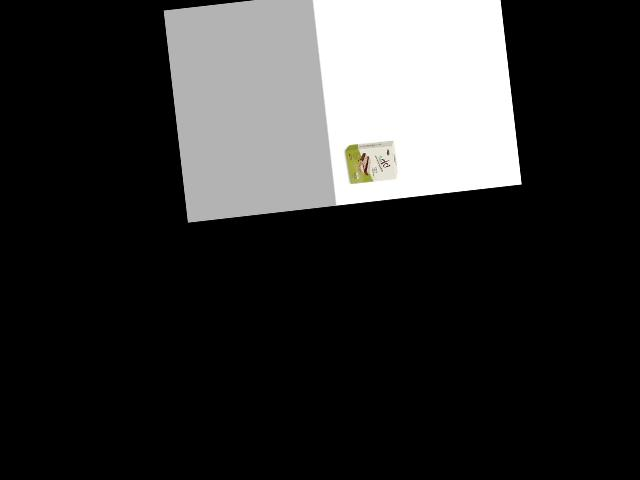chocolate: (341, 137, 400, 189)
